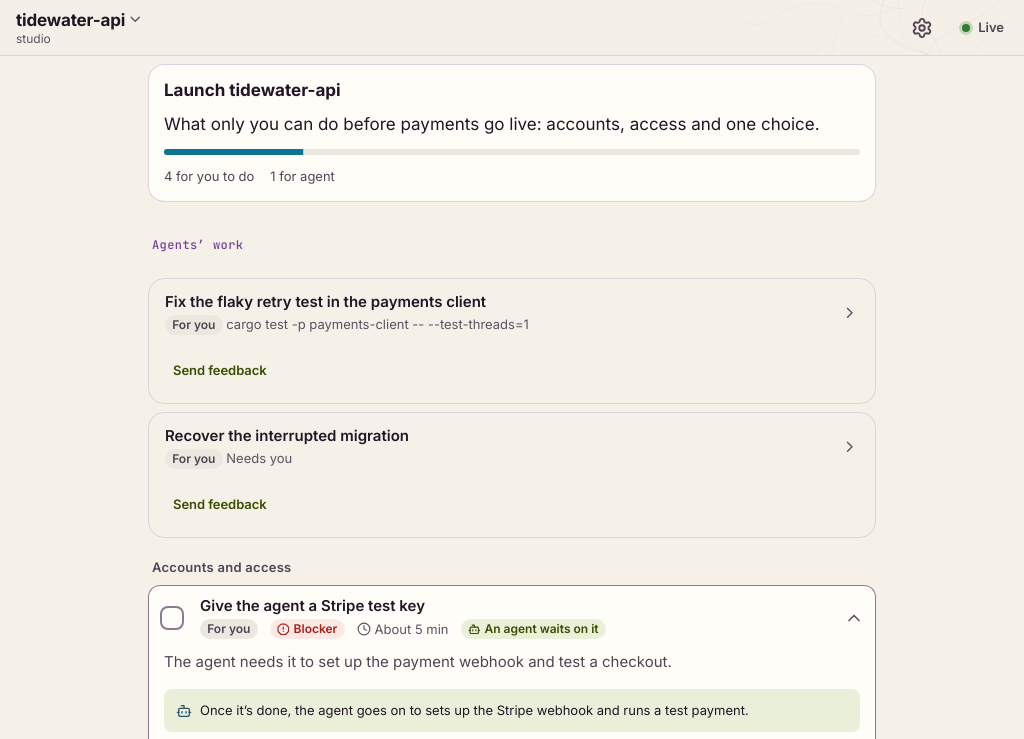
it: persists All locally and returns to a project when the header project changes
Click the button with class "ctx__context".
click(80, 28)  # box [8, 4, 152, 52]
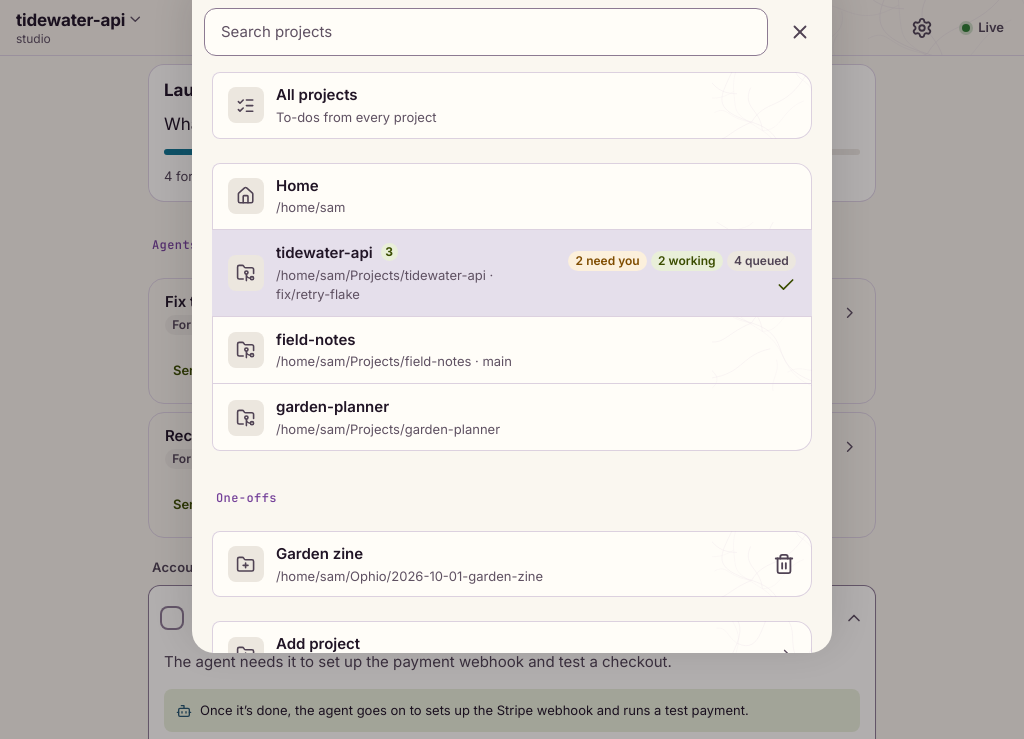
Click the button "All projects To-dos from every project".
click(246, 105)  # box [212, 72, 812, 139]
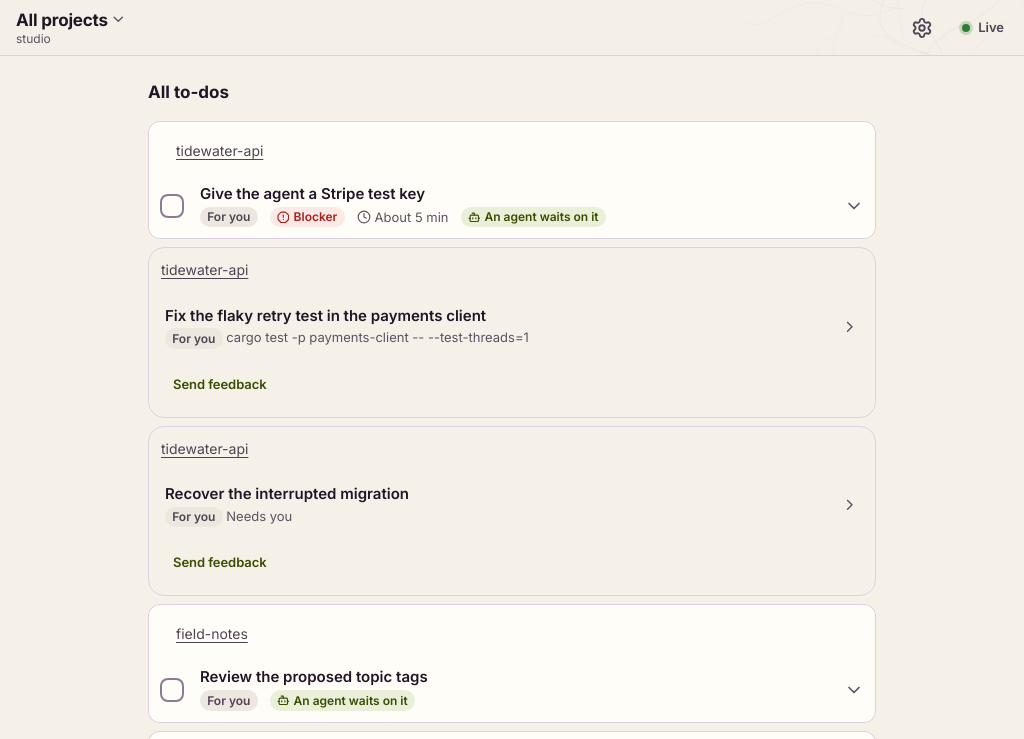
Expected: the heading "All to-dos" is shown, [148, 82, 229, 102]
